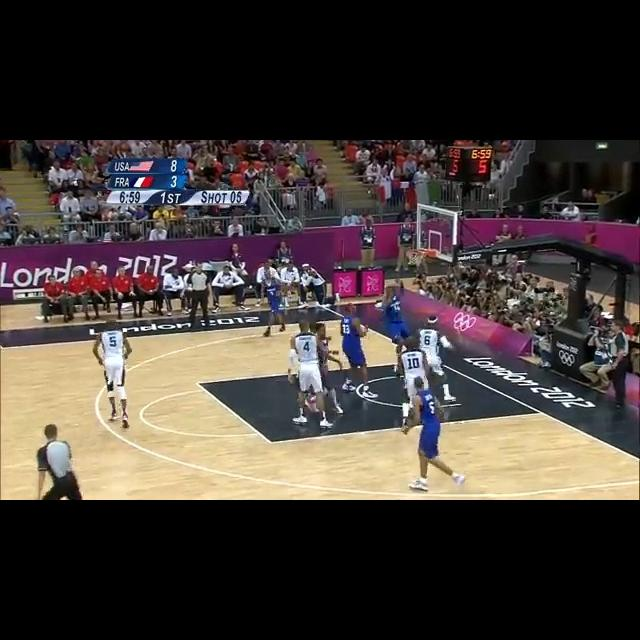basketball: (359, 324, 369, 337)
hoop: (402, 248, 429, 270)
person: (404, 377, 466, 494), (288, 322, 332, 429), (260, 258, 289, 337), (186, 265, 211, 325)
